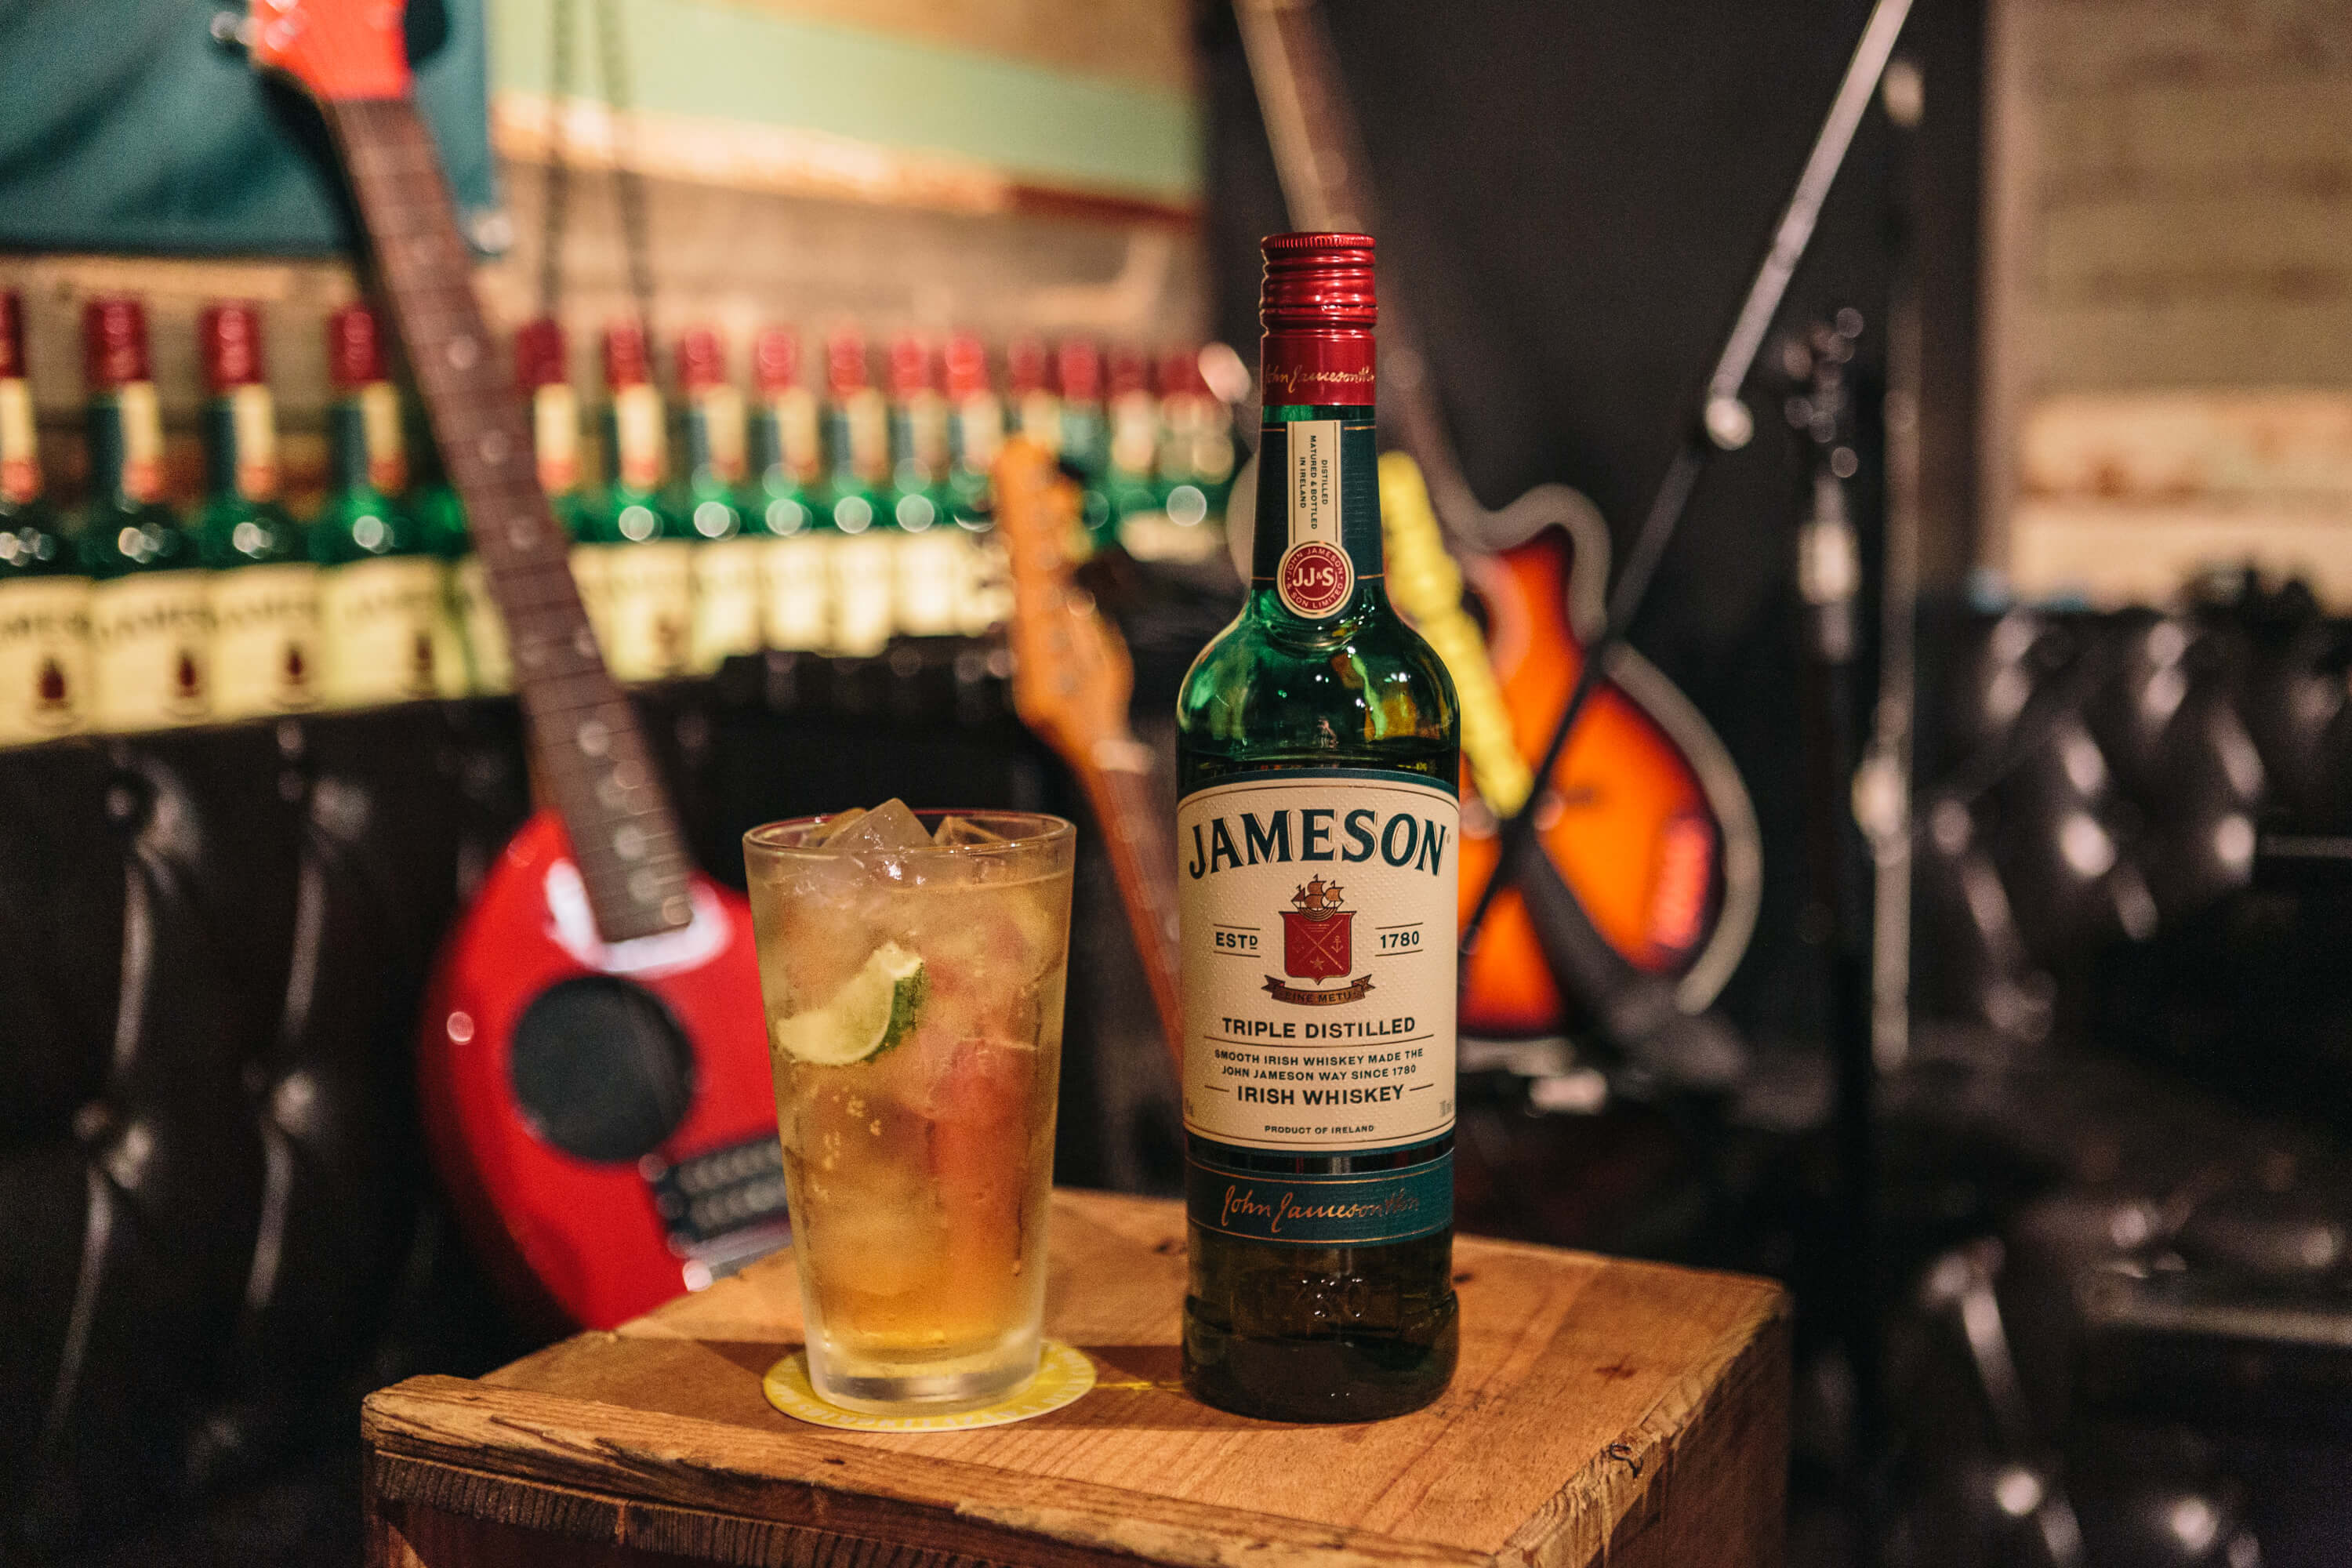Jameson: (1157, 219, 1472, 1435)
